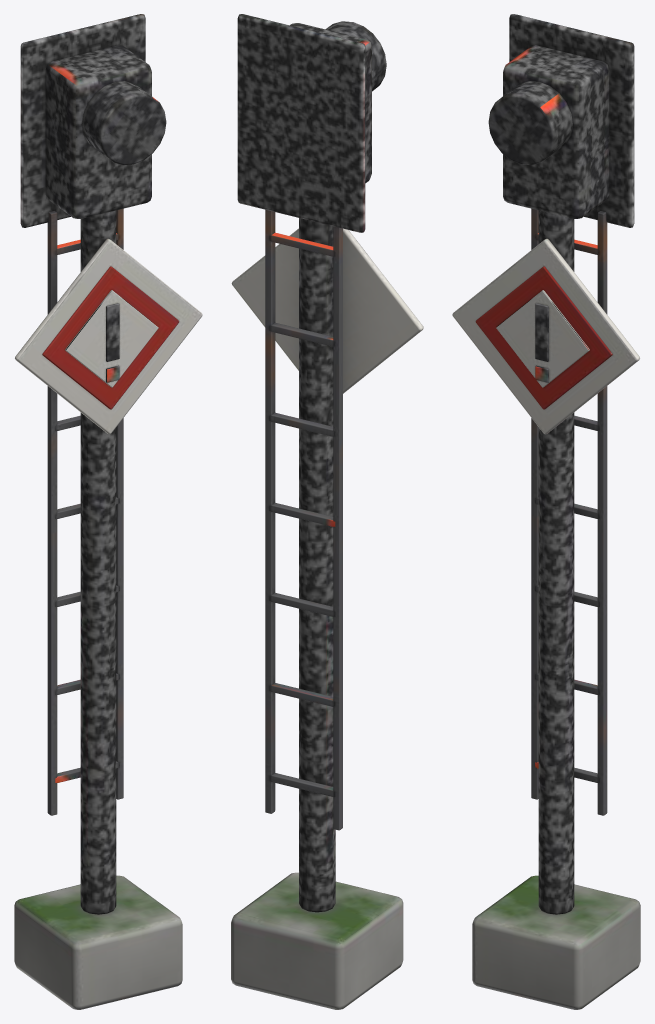
The model's file is gate_signal.glb.
3 renders of one model, left to right at view 1: azimuth 30°, elevation 25°; view 2: azimuth 150°, elevation 25°; view 3: azimuth 330°, elevation 25°, orthographic. The views are drawn at different scales.
Parts seen in each view (by area): view 1: SignalPost; view 2: SignalPost; view 3: SignalPost.
Part boxes in pixels (x1=…): SignalPost: x1=14, y1=14, x2=202, y2=1009; SignalPost: x1=231, y1=14, x2=423, y2=1009; SignalPost: x1=452, y1=14, x2=640, y2=1009.
Bounding box in the file's own units: 0.8402 × 4.05 × 0.53.
Materials: 6 (6 with a texture image).
